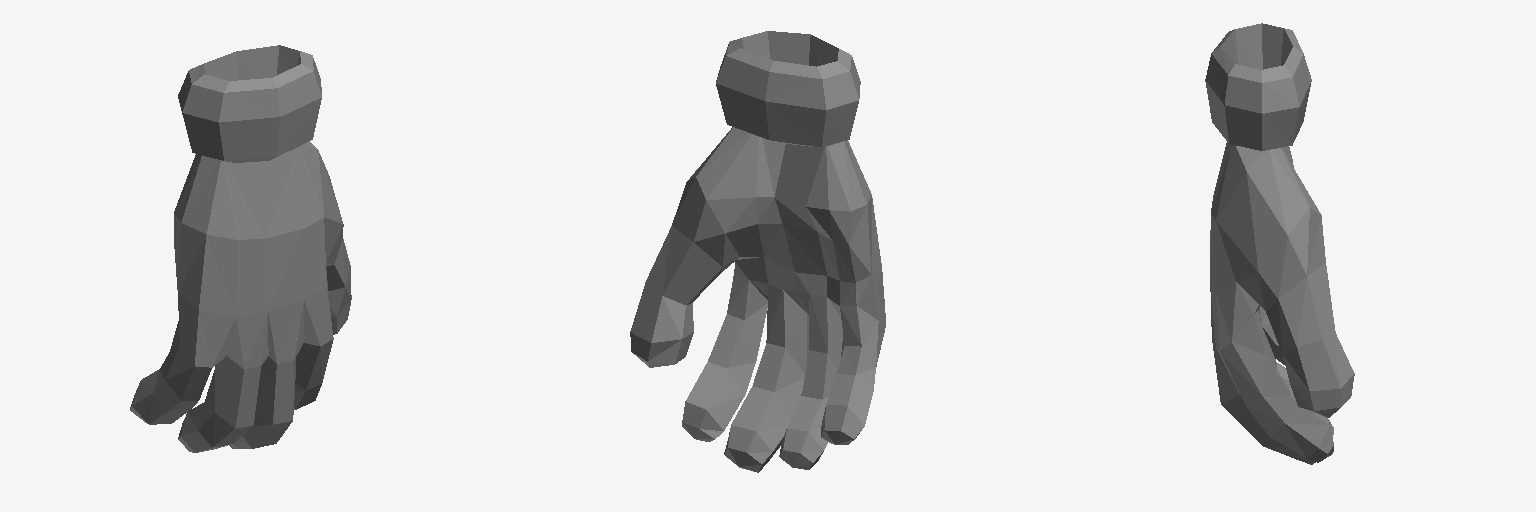
The model's file is hand.obj.
3 views of the same model, side by side, from view 1: azimuth 30°, elevation 25°; view 2: azimuth 150°, elevation 25°; view 3: azimuth 270°, elevation 25° (orthographic).
Parts seen in each view (by area): view 1: Nemu_0_0_031, Nemu_0_0_021, Nemu_0_0_019, Nemu_0_0_032, Nemu_0_0_020, Nemu_0_0_028, Nemu_0_0_035, Nemu_0_0_037, Nemu_0_0_022, Nemu_0_0_033, Nemu_0_0_025, Nemu_0_0_029 (+4 smaller); view 2: Nemu_0_0_031, Nemu_0_0_019, Nemu_0_0_022, Nemu_0_0_021, Nemu_0_0_024, Nemu_0_0_030, Nemu_0_0_023, Nemu_0_0_027, Nemu_0_0_037, Nemu_0_0_034, Nemu_0_0_020, Nemu_0_0_028 (+7 smaller); view 3: Nemu_0_0_022, Nemu_0_0_019, Nemu_0_0_021, Nemu_0_0_024, Nemu_0_0_023, Nemu_0_0_025, Nemu_0_0_020, Nemu_0_0_027, Nemu_0_0_026, Nemu_0_0_029, Nemu_0_0_028.
Part boxes in pixels (x1,y1,x2,y2): Nemu_0_0_031: (174,154,268,369); Nemu_0_0_021: (264,141,333,363); Nemu_0_0_019: (178,46,321,162); Nemu_0_0_032: (215,356,260,428); Nemu_0_0_020: (204,45,300,80); Nemu_0_0_028: (256,356,295,424); Nemu_0_0_035: (165,321,211,400); Nemu_0_0_037: (130,369,189,424); Nemu_0_0_022: (319,153,343,266); Nemu_0_0_033: (198,370,253,447); Nemu_0_0_025: (295,339,333,390); Nemu_0_0_029: (243,406,292,448); Nemu_0_0_031: (775,140,885,323); Nemu_0_0_019: (716,38,860,147); Nemu_0_0_022: (672,127,763,273); Nemu_0_0_021: (734,137,805,311); Nemu_0_0_024: (630,282,693,367); Nemu_0_0_030: (724,386,789,472); Nemu_0_0_023: (646,226,722,304); Nemu_0_0_027: (682,362,744,441); Nemu_0_0_037: (821,374,873,444); Nemu_0_0_034: (779,396,827,469); Nemu_0_0_020: (741,31,838,66); Nemu_0_0_028: (766,284,808,372); Nemu_0_0_022: (1216,148,1325,310); Nemu_0_0_019: (1205,28,1311,150); Nemu_0_0_021: (1210,142,1264,350); Nemu_0_0_024: (1283,333,1354,417); Nemu_0_0_023: (1266,263,1335,353); Nemu_0_0_025: (1216,310,1264,406); Nemu_0_0_020: (1221,23,1292,69); Nemu_0_0_027: (1271,391,1333,462); Nemu_0_0_026: (1247,351,1290,437); Nemu_0_0_029: (1221,395,1268,445); Nemu_0_0_028: (1212,312,1259,403).
Size of the model in its own units: 1.01 by 1.78 by 0.5927.